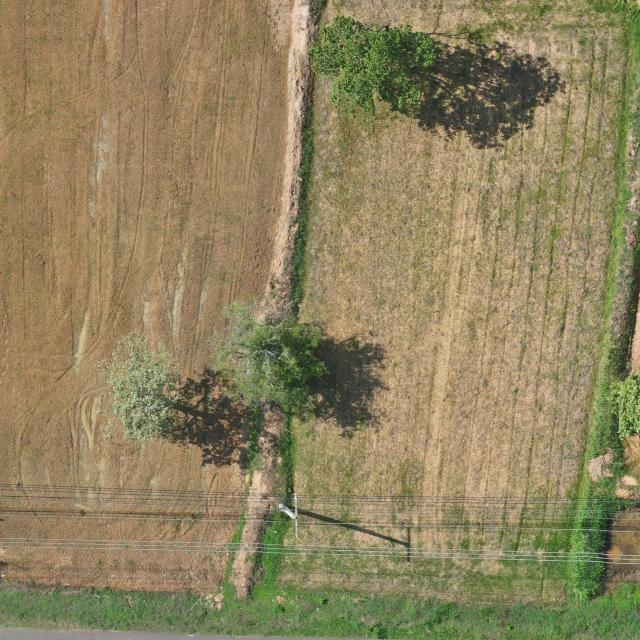Tree: (207, 299, 333, 414), (308, 13, 437, 116), (96, 328, 184, 447)
